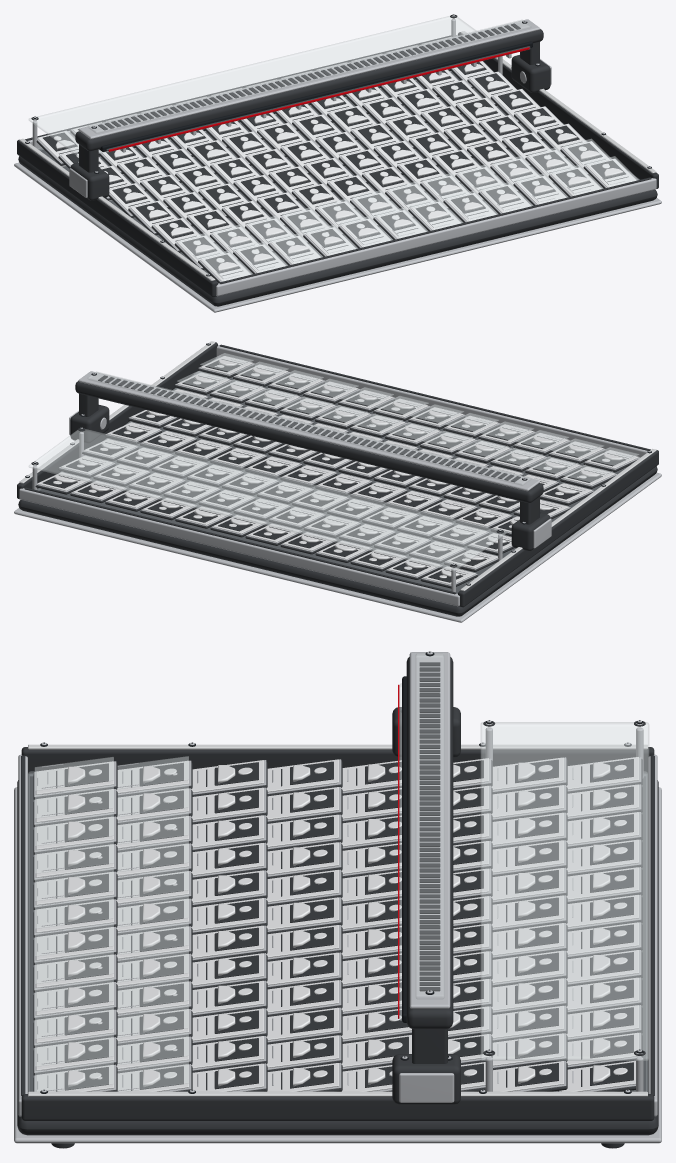
File: mass-capture.glb
3 views of the same model, one above another, from view 1: azimuth 30°, elevation 25°; view 2: azimuth 150°, elevation 25°; view 3: azimuth 270°, elevation 25° (orthographic). The views are drawn at different scales.
Parts seen in each view (by area): view 1: Transparent rear population inspection cover, Population field graphite structural chassis, Population field machined end frame, Full-width titanium optical bridge crown, Full-width graphite optical bridge casting, Scanner internal optics inspection strip, Population field machined titanium sole, Long precision scanner motion rail, Continuous optical lens housing, Long precision scanner motion rail.001, Uniform full-width red optical filter, End frame graphite gasket (+43 smaller); view 2: Transparent rear population inspection cover, Population field graphite structural chassis, Full-width graphite optical bridge casting, Population field machined end frame.001, Full-width titanium optical bridge crown, Scanner internal optics inspection strip, Population field machined titanium sole, Population field machined end frame, Long precision scanner motion rail, Population field continuous glass bed, Long precision scanner motion rail.001, End frame graphite gasket.001 (+30 smaller); view 3: Transparent rear population inspection cover, Long precision scanner motion rail.001, Population field graphite structural chassis, Full-width titanium optical bridge crown, Scanner internal optics inspection strip, Population field machined titanium sole, Long precision scanner motion rail, Full-width graphite optical bridge casting, Motion rail titanium wear strip.001, Motion rail titanium wear strip, Population field continuous glass bed, Population field machined end frame (+116 smaller).
Boxes of the visible parts, bbox=[...] form: Transparent rear population inspection cover: bbox=[29, 16, 476, 156]; Population field graphite structural chassis: bbox=[18, 72, 657, 306]; Population field machined end frame: bbox=[216, 178, 656, 296]; Full-width titanium optical bridge crown: bbox=[78, 19, 540, 139]; Full-width graphite optical bridge casting: bbox=[75, 29, 543, 151]; Scanner internal optics inspection strip: bbox=[88, 20, 530, 133]; Population field machined titanium sole: bbox=[14, 162, 661, 312]; Long precision scanner motion rail: bbox=[17, 140, 217, 296]; Continuous optical lens housing: bbox=[99, 41, 532, 151]; Long precision scanner motion rail.001: bbox=[458, 32, 658, 188]; Uniform full-width red optical filter: bbox=[108, 47, 529, 151]; End frame graphite gasket: bbox=[220, 177, 651, 283]; Transparent rear population inspection cover: bbox=[29, 429, 506, 571]; Population field graphite structural chassis: bbox=[18, 357, 657, 616]; Full-width graphite optical bridge casting: bbox=[75, 381, 543, 502]; Population field machined end frame.001: bbox=[19, 488, 459, 606]; Full-width titanium optical bridge crown: bbox=[78, 371, 540, 491]; Scanner internal optics inspection strip: bbox=[88, 371, 530, 485]; Population field machined titanium sole: bbox=[14, 472, 661, 622]; Population field machined end frame: bbox=[216, 345, 647, 457]; Long precision scanner motion rail: bbox=[458, 450, 658, 607]; Population field continuous glass bed: bbox=[37, 356, 626, 593]; Long precision scanner motion rail.001: bbox=[17, 342, 217, 499]; End frame graphite gasket.001: bbox=[24, 487, 456, 594]; Transparent rear population inspection cover: bbox=[481, 722, 648, 1060]; Long precision scanner motion rail.001: bbox=[21, 1094, 654, 1120]; Population field graphite structural chassis: bbox=[17, 773, 658, 1135]; Full-width titanium optical bridge crown: bbox=[409, 652, 450, 1008]; Scanner internal optics inspection strip: bbox=[416, 653, 443, 998]; Population field machined titanium sole: bbox=[14, 787, 661, 1143]; Long precision scanner motion rail: bbox=[21, 747, 654, 773]; Full-width graphite optical bridge casting: bbox=[406, 657, 453, 1029]; Motion rail titanium wear strip.001: bbox=[28, 1091, 647, 1096]; Motion rail titanium wear strip: bbox=[28, 744, 647, 749]; Population field continuous glass bed: bbox=[28, 771, 647, 1091]; Population field machined end frame: bbox=[18, 754, 27, 1116].
Size of the model in its own units: 10.96 by 2.2 by 8.18.
Materials: 3 (3 with a texture image).
